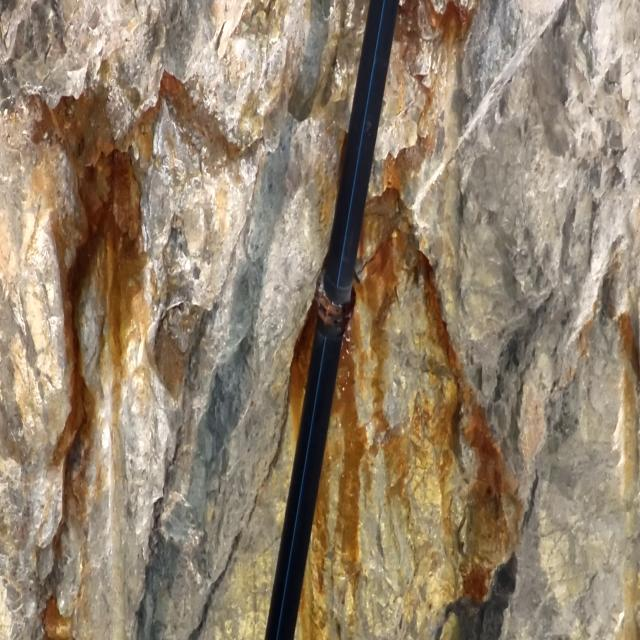leak: (336, 320, 356, 457)
